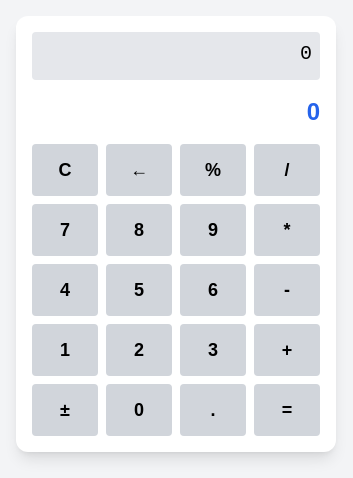
it: Calculator Component › should perform addition correctly
Click the button "1". click: (65, 350)
box: [32,324,98,376]
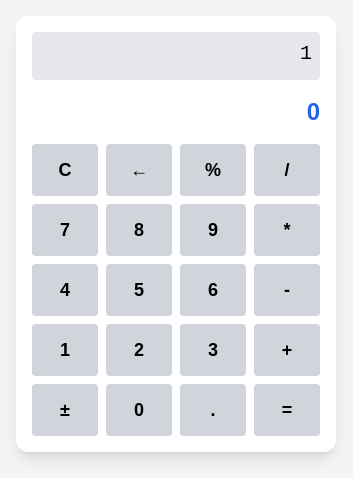
Click the button "+". click: (287, 350)
box: [254,324,320,376]
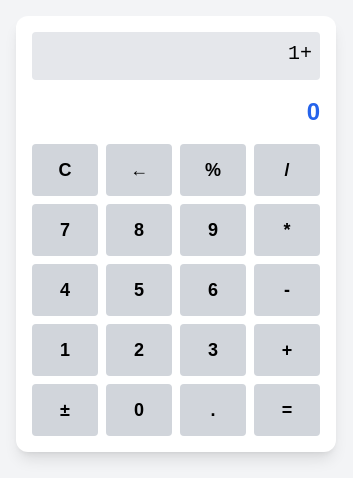
Click the button "2". click: (139, 350)
box: [106,324,172,376]
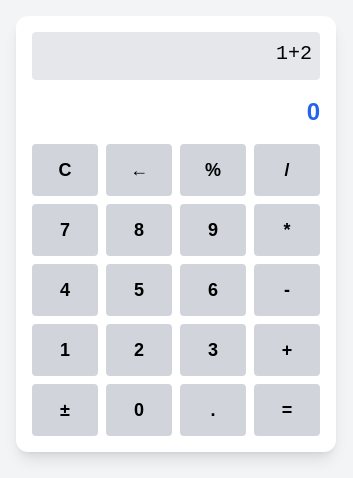
Click the button "=". click: (287, 410)
box: [254,384,320,436]
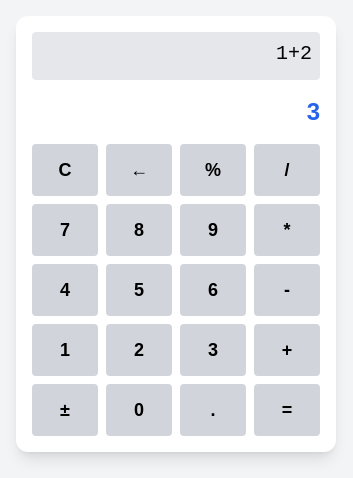
Result: the text "3" is shown at [307,98,320,125]
